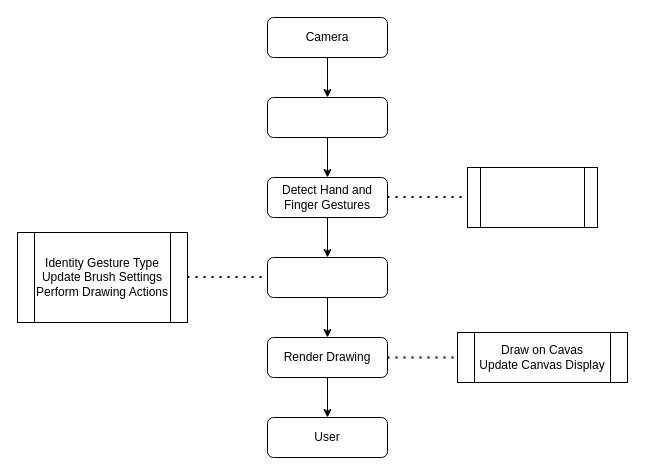
Image size: 645x475. Some labels were removed from this diagram. Here are the shapes that lost their labels. From the top down, the centre of each, then its label:
point 327,117: Capture Image
point 532,197: Hand Landmark Detection (MediaPipe Model)
point 327,277: Process Gestures
